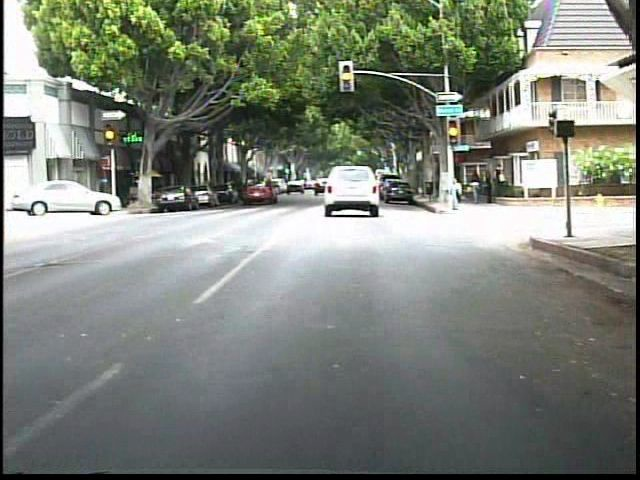person: (445, 174, 466, 212), (468, 169, 484, 204), (492, 160, 507, 196), (481, 167, 494, 204)
